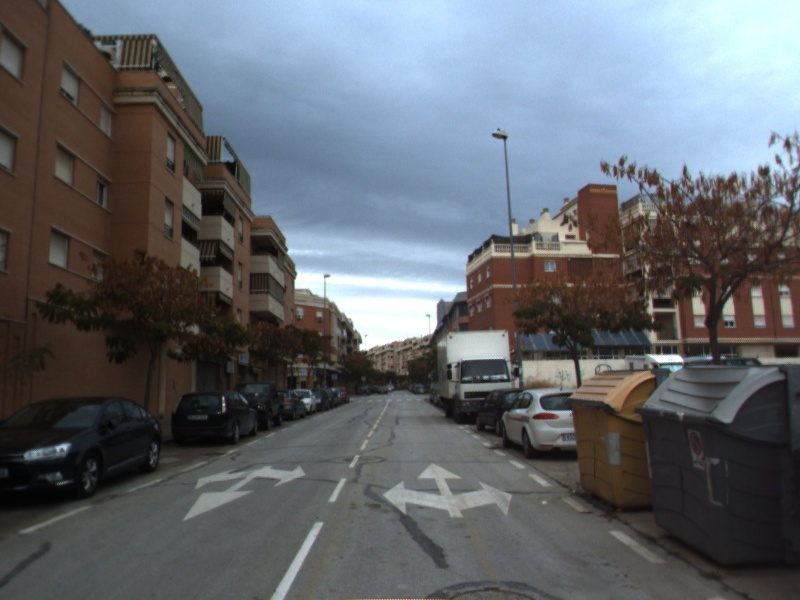STRAIGHT_LEFT_RIGHT: (381, 461, 515, 519)
